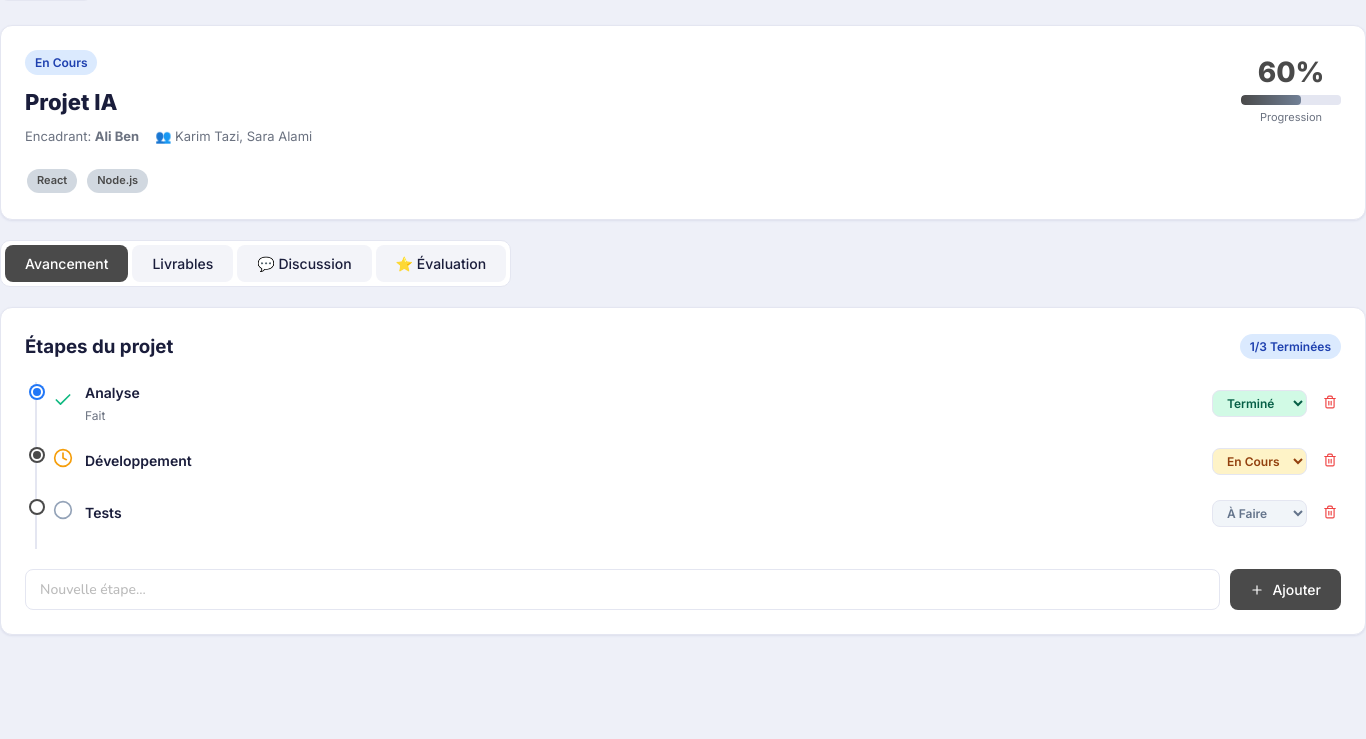
Scenario: ProjectDetailPage - Messages Tab › shows error when file is too large
Expected: the heading "Projet IA" is shown, [25,89,118,115]
Click the button "💬 Discussion".
click(304, 263)  # box [237,245,372,282]
(page scrolled)
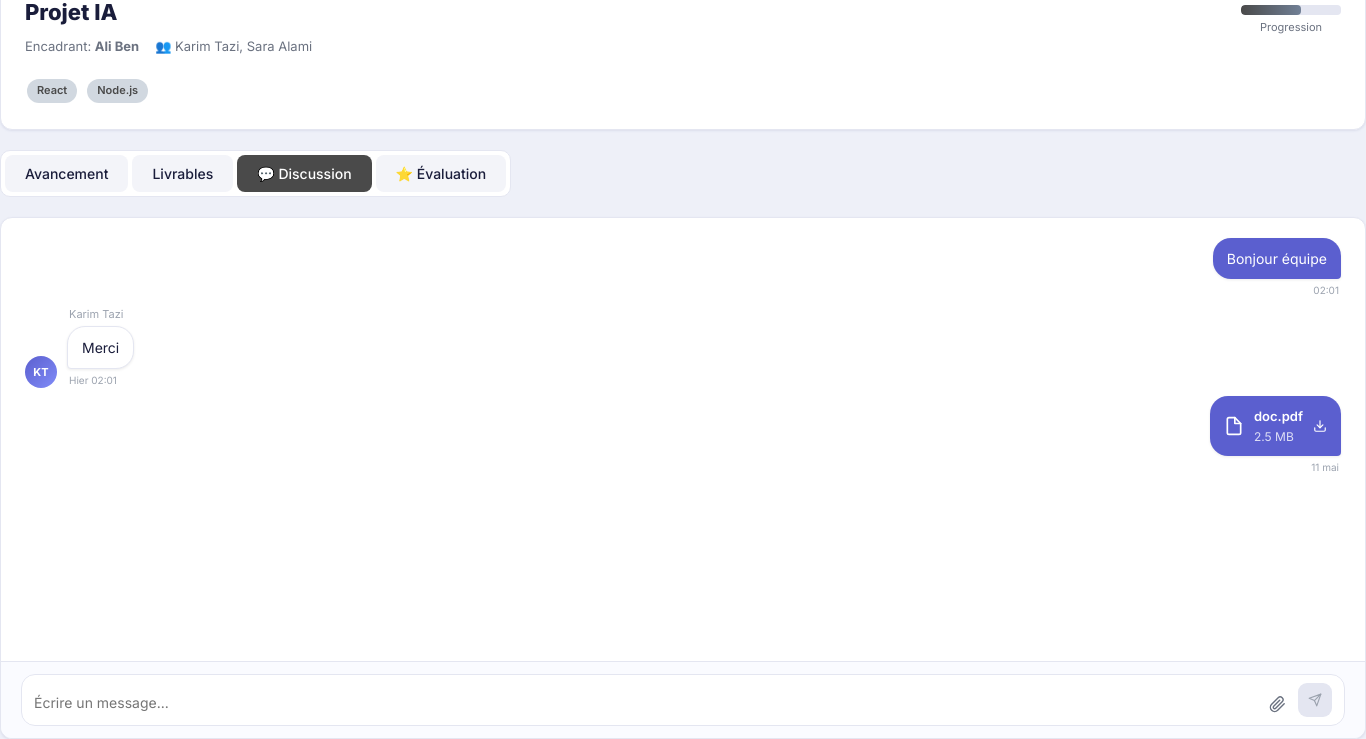
Result: the text box with placeholder "Écrire un message..." is shown at [34,688,1257,717]
